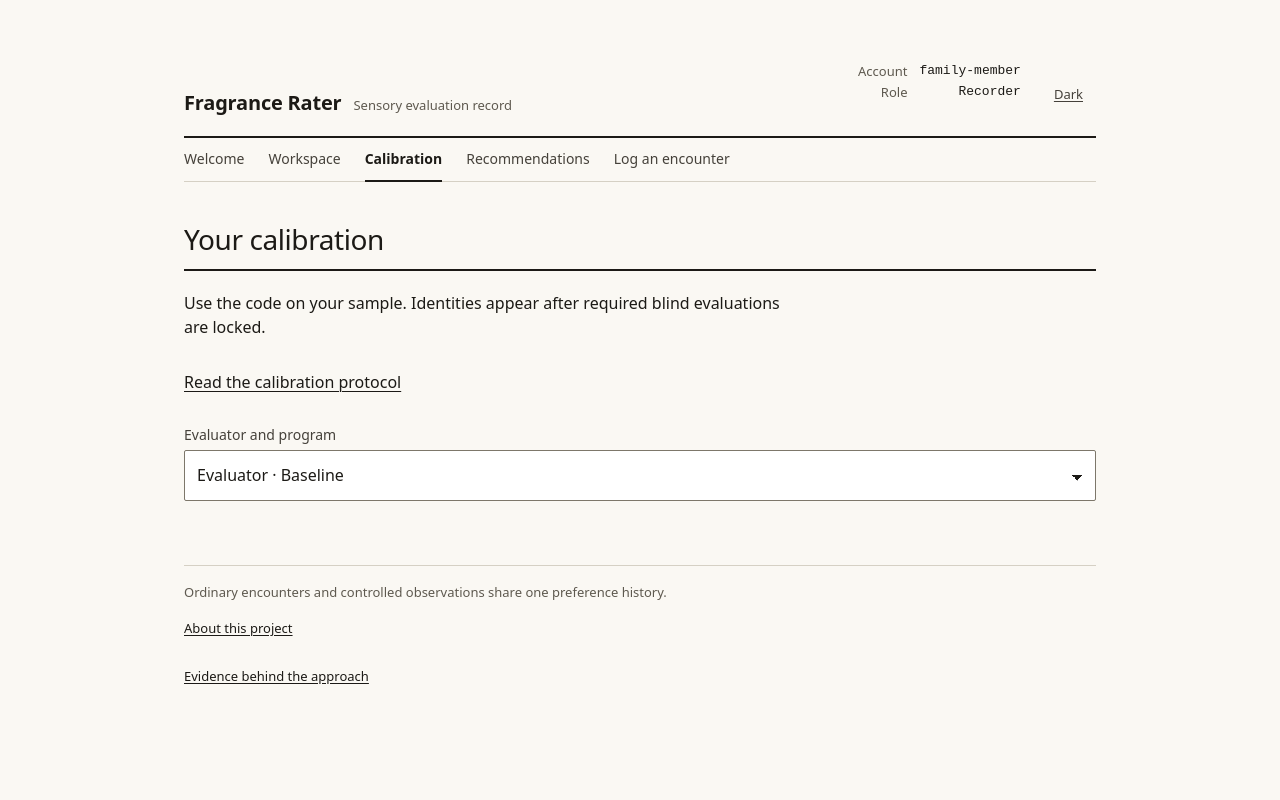
it: Calibration participant workflow › offers the form for recording a new ordinary encounter
The width and height of the screenshot is (1280, 800).
Click the link "Log an encounter" at (672, 158), box [614, 149, 730, 168]
(page scrolled)
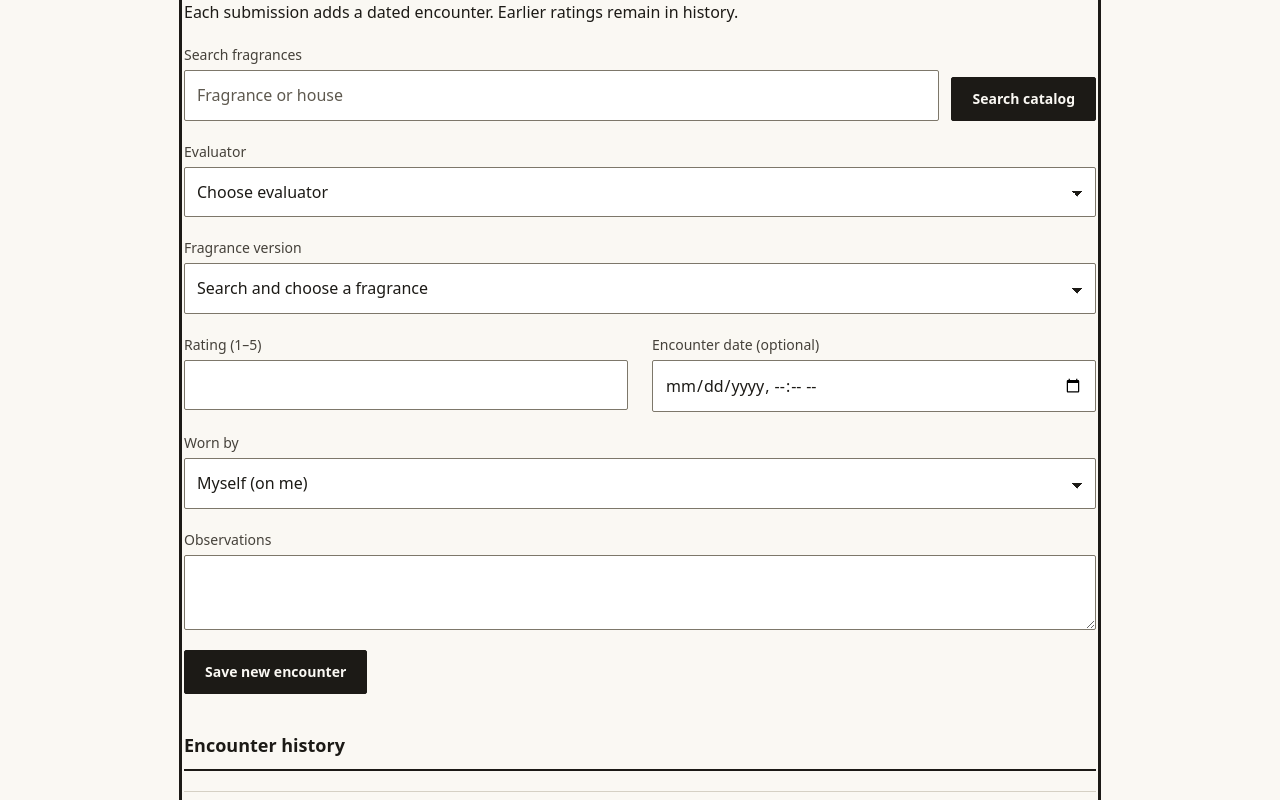
Now the button "Save new encounter" is shown, box [184, 650, 367, 694]
